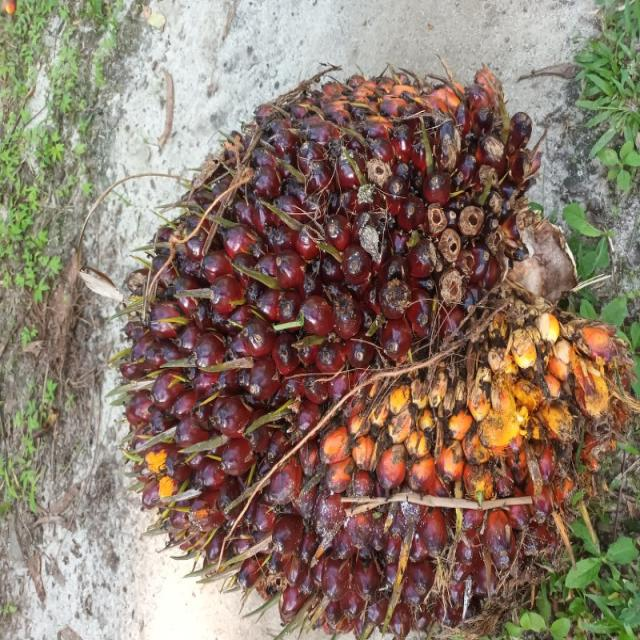fraksi 1: (0, 94, 440, 640)
